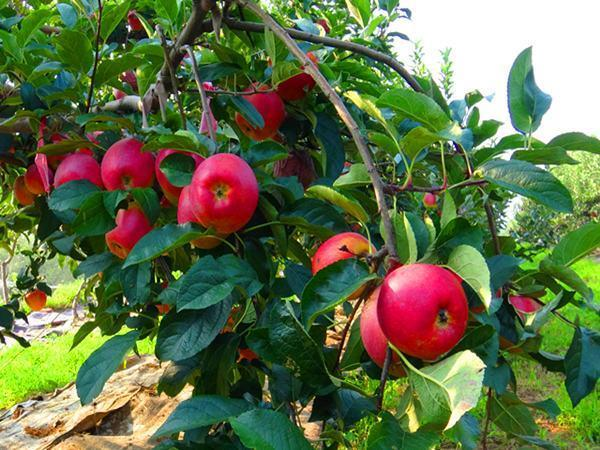apple: (369, 265, 468, 360), (177, 153, 257, 236), (103, 137, 156, 197), (23, 288, 46, 311)
